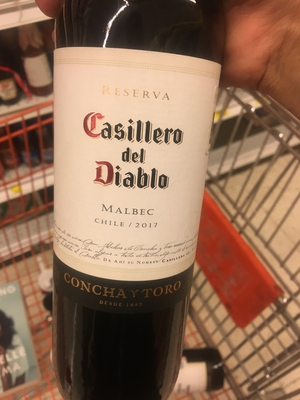casillero del diablo malbec: (39, 9, 231, 396)
